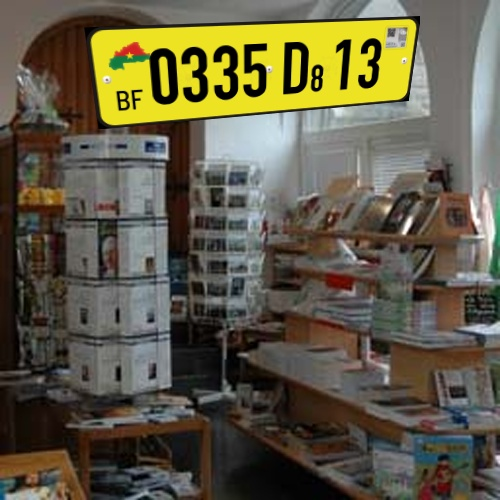plate: (81, 13, 426, 134)
